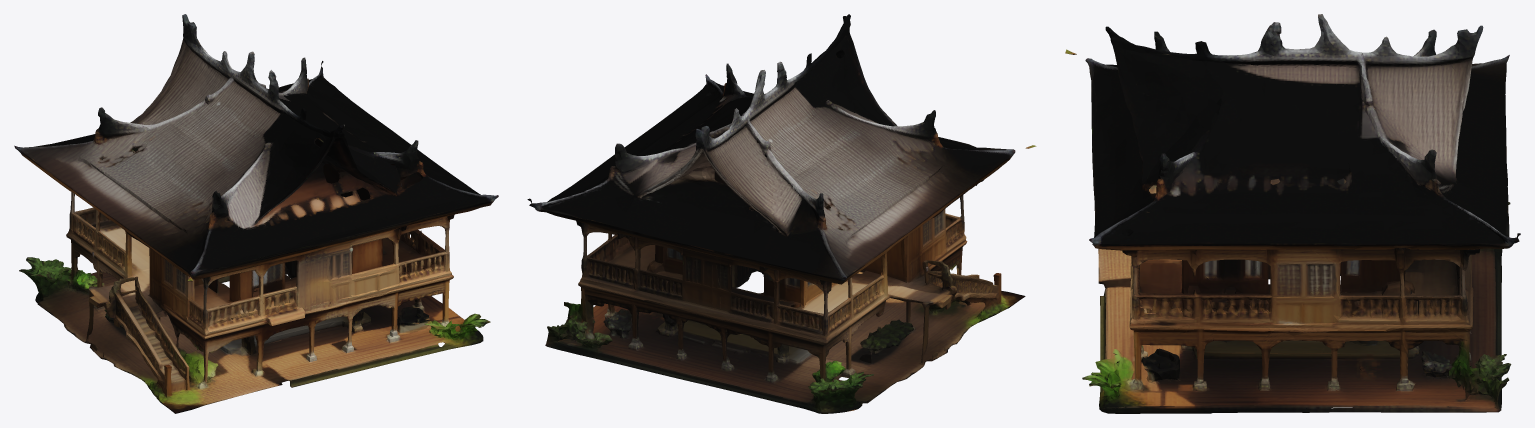
The model's file is lampung.glb.
3 renders of one model, left to right at view 1: azimuth 30°, elevation 25°; view 2: azimuth 150°, elevation 25°; view 3: azimuth 270°, elevation 25°, orthographic. The views are drawn at different scales.
Visible parts, largest first — view 1: world; view 2: world; view 3: world.
Boxes of the visible parts, left/top/right/bottom form: world: left=14, top=14, right=498, bottom=413; world: left=527, top=14, right=1036, bottom=413; world: left=1065, top=14, right=1520, bottom=413.
Bounding box in the file's own units: 0.6764 × 0.5183 × 0.6753.
1 material, 1 textured.
